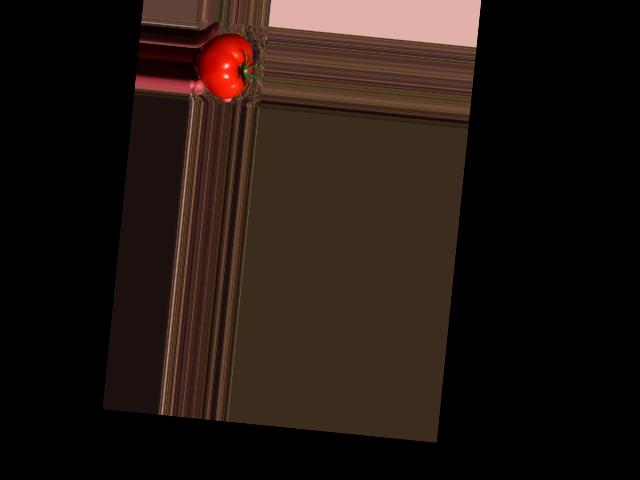tomato: (194, 30, 255, 101)
